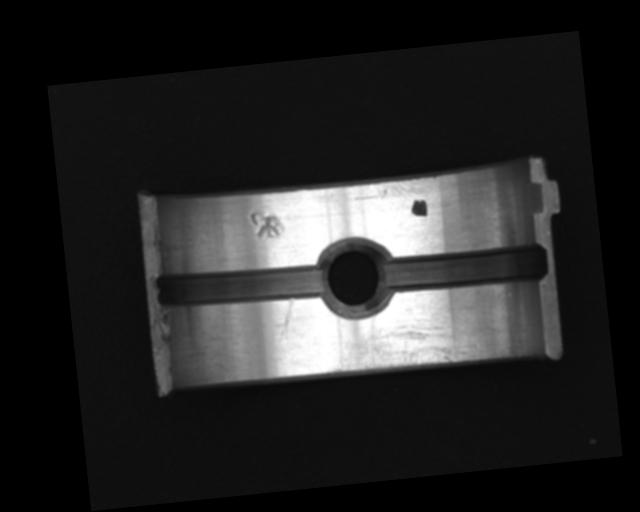blot: (409, 198, 429, 218)
bruise: (249, 209, 285, 240)
gap: (153, 254, 329, 315), (383, 241, 549, 296)
hole: (313, 235, 396, 321)
nick: (273, 297, 300, 349)
scratch: (325, 310, 483, 378)
